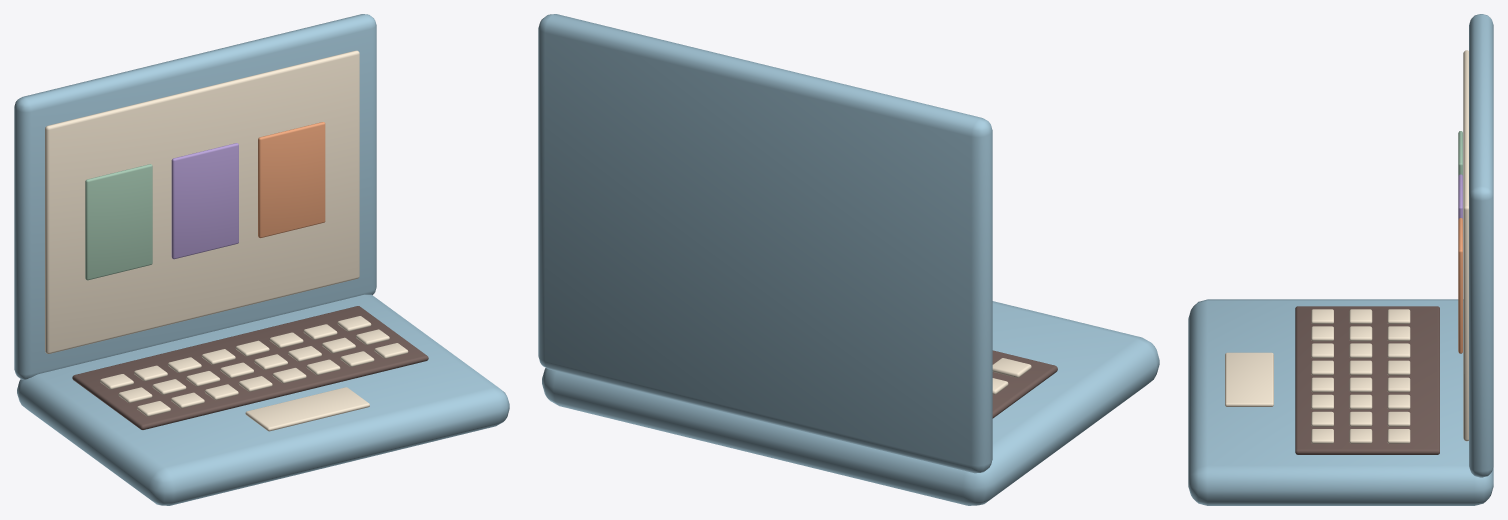
File: laptop.glb
The picture shows the model from 3 angles, left to right: view 1: azimuth 30°, elevation 25°; view 2: azimuth 150°, elevation 25°; view 3: azimuth 270°, elevation 25°; orthographic projection. The views are drawn at different scales.
Visible parts, largest first — view 1: LaptopLidSurface, AssetSurface; view 2: LaptopLidSurface, AssetSurface; view 3: AssetSurface, LaptopLidSurface.
Boxes of the visible parts, left/top/right/bottom form: LaptopLidSurface: left=14, top=14, right=376, bottom=379; AssetSurface: left=17, top=294, right=509, bottom=505; LaptopLidSurface: left=538, top=14, right=992, bottom=473; AssetSurface: left=542, top=301, right=1159, bottom=505; AssetSurface: left=1188, top=299, right=1493, bottom=505; LaptopLidSurface: left=1458, top=14, right=1493, bottom=477.
Bounding box in the file's own units: 0.56 × 0.465 × 0.4.
